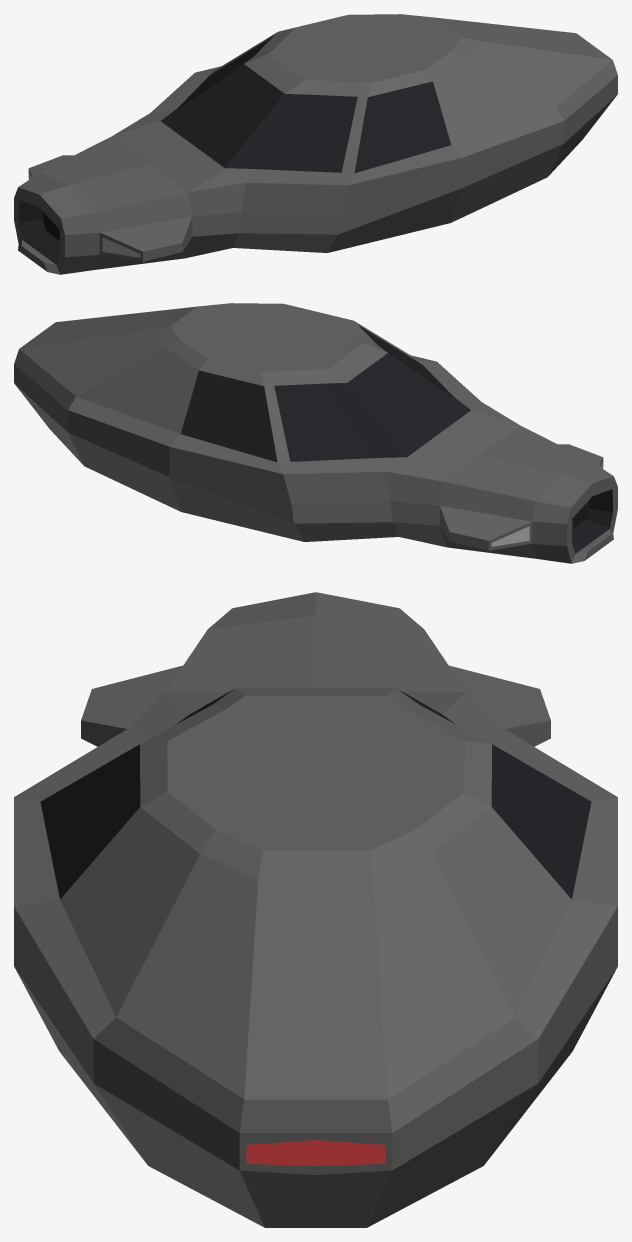
The model's file is Car-3.fbx.
3 renders of one model, top to bottom at view 1: azimuth 30°, elevation 25°; view 2: azimuth 150°, elevation 25°; view 3: azimuth 270°, elevation 25°, orthographic. The views are drawn at different scales.
Visible parts, largest first — view 1: Car-3; view 2: Car-3; view 3: Car-3.
Part boxes in pixels (x1,y1,x2,y2): Car-3: [14, 14, 617, 274]; Car-3: [14, 303, 617, 563]; Car-3: [14, 592, 617, 1227].
Size of the model in its own units: 411 by 92.12 by 194.
